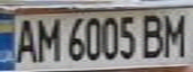0: (81, 14, 103, 62), (103, 14, 121, 61)
5: (118, 12, 142, 61)
6: (63, 14, 84, 62)
A: (9, 15, 39, 64)
B: (139, 11, 169, 60)
M: (157, 10, 193, 58), (33, 15, 60, 63)
